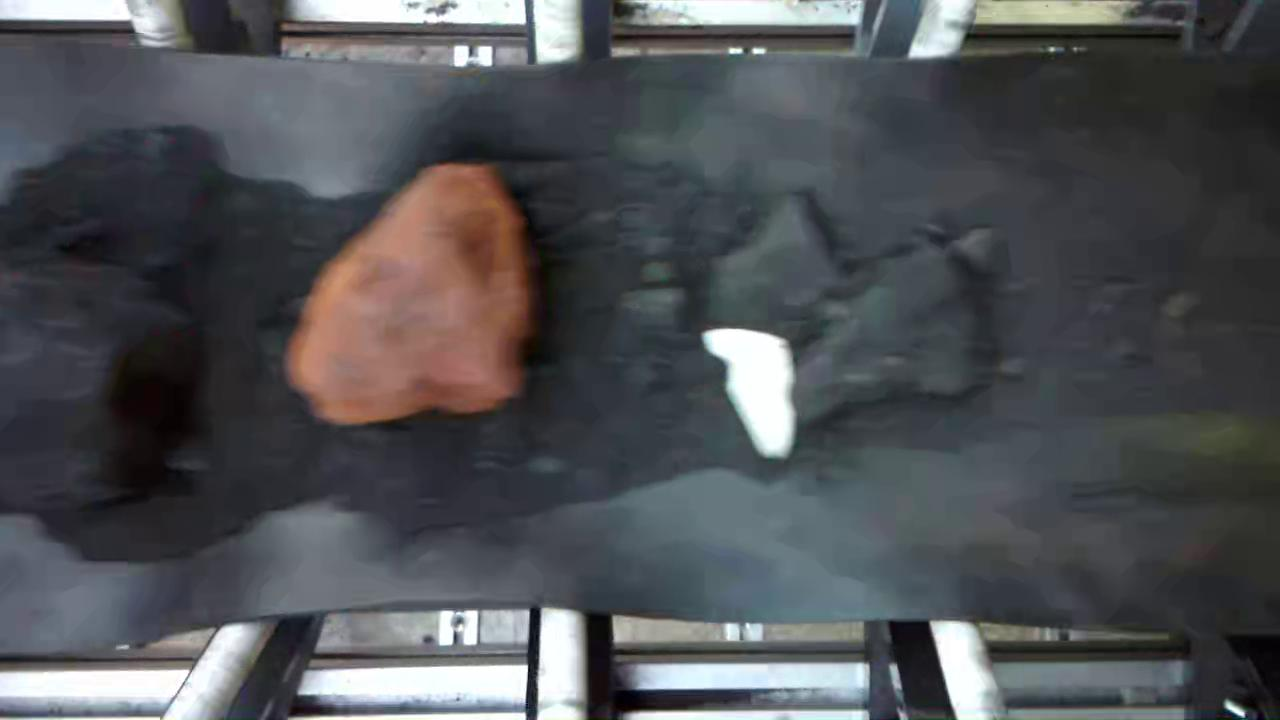conveyor: (1, 66, 1280, 619)
